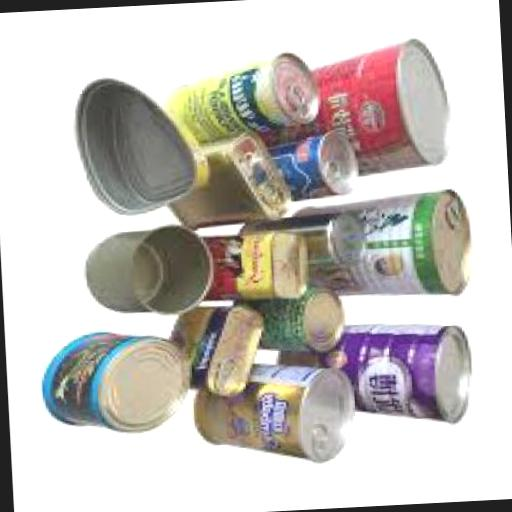metal: (250, 39, 455, 180), (279, 318, 476, 434), (296, 192, 478, 306), (75, 76, 213, 218), (193, 358, 359, 472), (41, 328, 194, 438), (176, 52, 326, 144), (160, 134, 294, 232), (86, 228, 216, 321), (174, 304, 272, 402), (240, 290, 348, 356), (262, 134, 358, 203)
